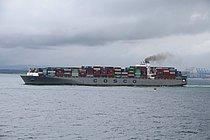Ship: (17, 56, 190, 93)
